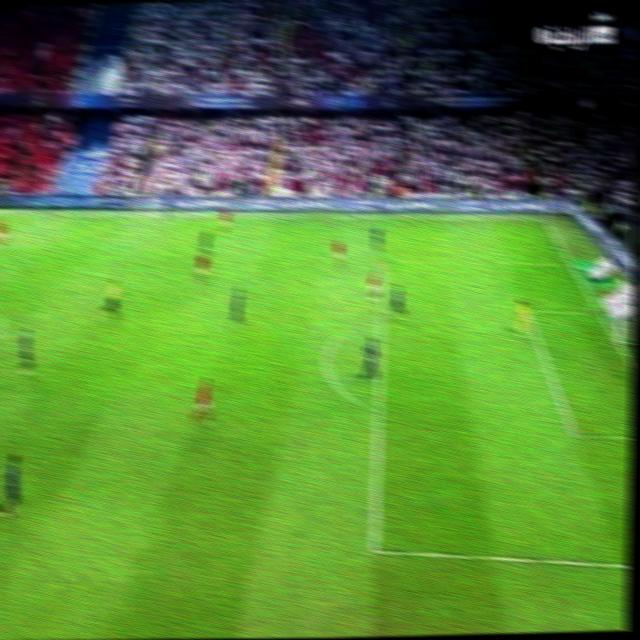bigarea_bottom_inner: (362, 540, 385, 560)
bigarea_top_inner: (375, 256, 391, 267)
bigarea_top_outter: (560, 259, 575, 269)
bottom_arc_area_intersection: (366, 403, 385, 416)
corner: (537, 214, 554, 227)
midline_top_intersection: (32, 207, 60, 220)
smallarea_bottom_inner: (564, 424, 580, 441)
smallarea_top_outter: (587, 304, 603, 318)
top_arc_area_intersection: (372, 310, 389, 324)
